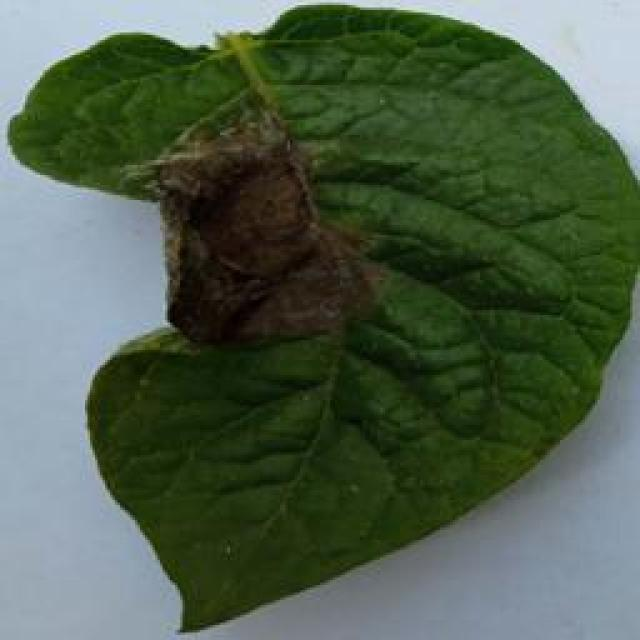Potato_Late_Blight: (6, 16, 630, 638)
